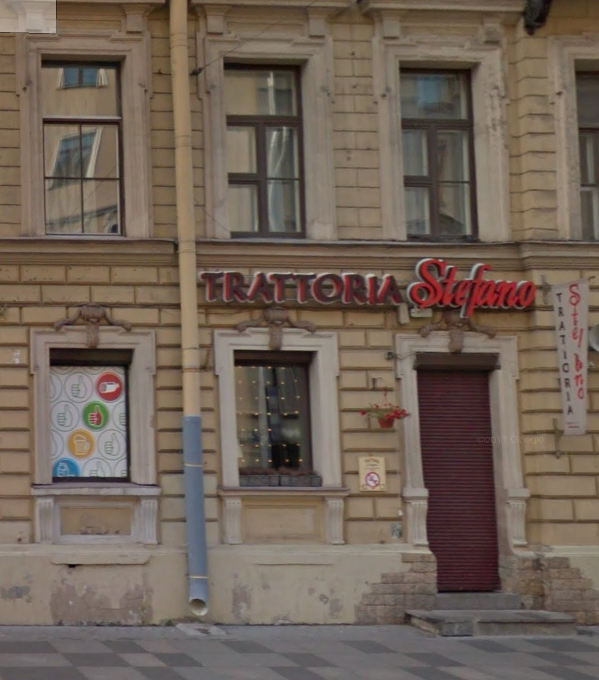door: (412, 349, 501, 602)
signboard: (197, 258, 542, 322)
window: (37, 52, 130, 233), (219, 63, 312, 236), (398, 58, 479, 240), (232, 346, 318, 489), (50, 340, 132, 484)
